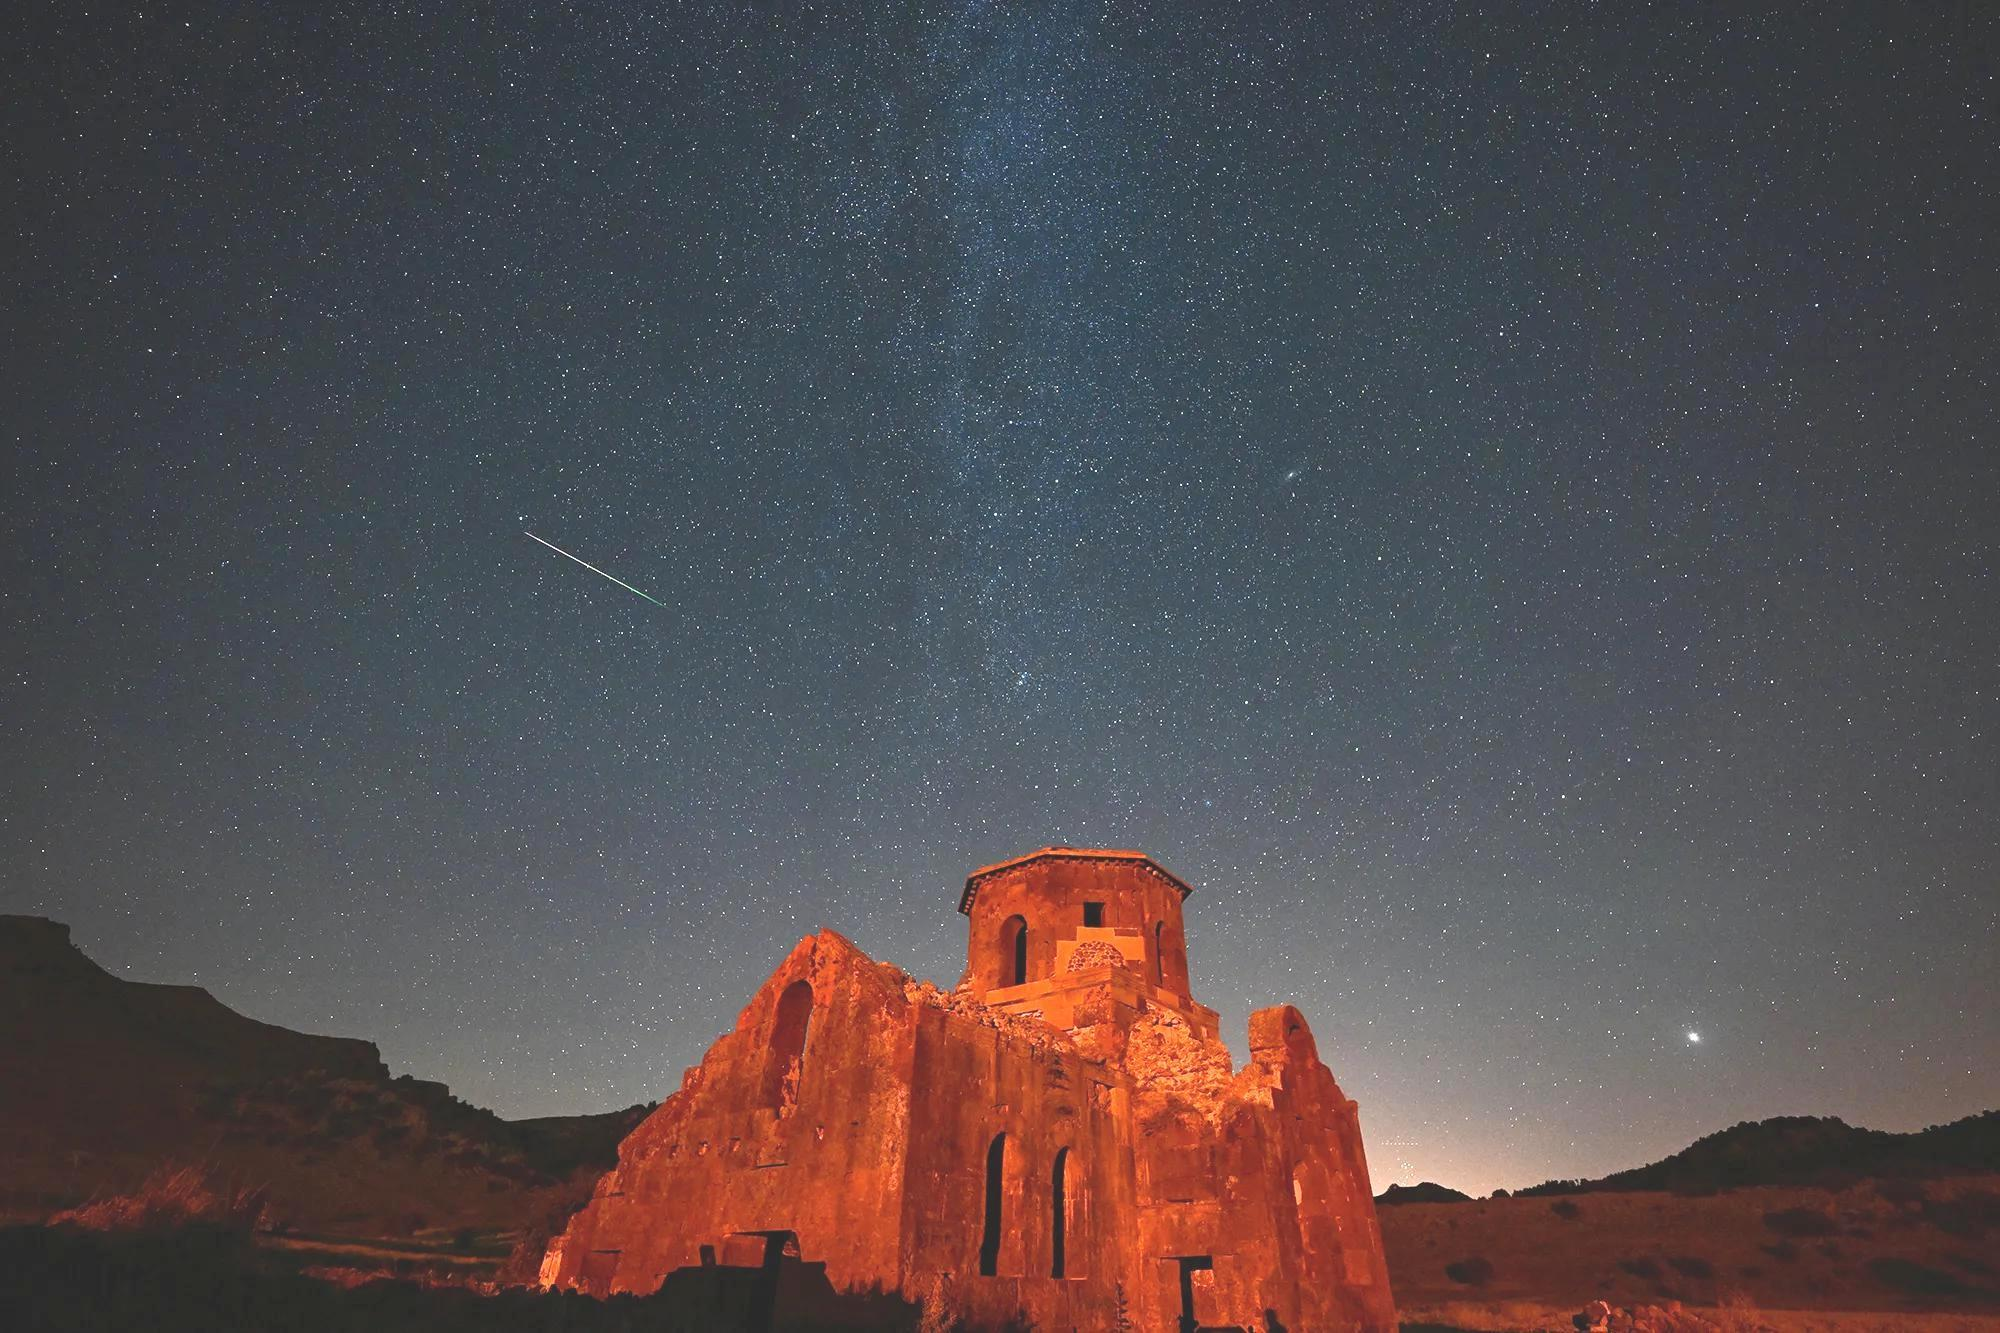meteorite: (504, 518, 702, 625)
